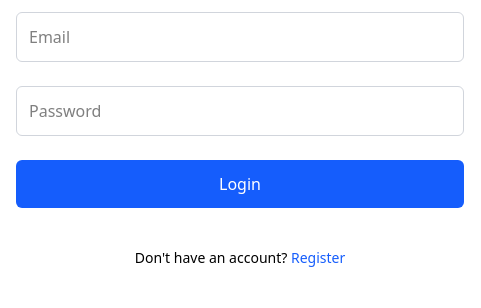
Scenario: LoginForm › validates password length
Type "test@example.com" into the field with placeholder "Email". click: (240, 37)
box: [16,12,464,62]
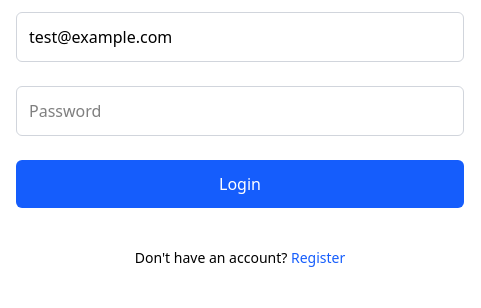
Type "12345" into the password field with placeholder "Password". click: (240, 111)
box: [16,86,464,136]
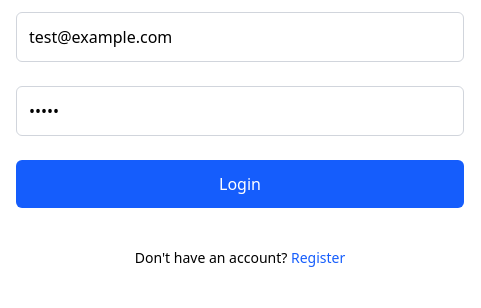
Click the button "Login". click: (240, 184)
box: [16,160,464,208]
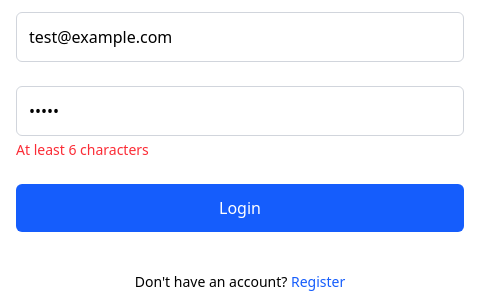
Now the text "At least 6 characters" is shown, box [16,140,149,159]
